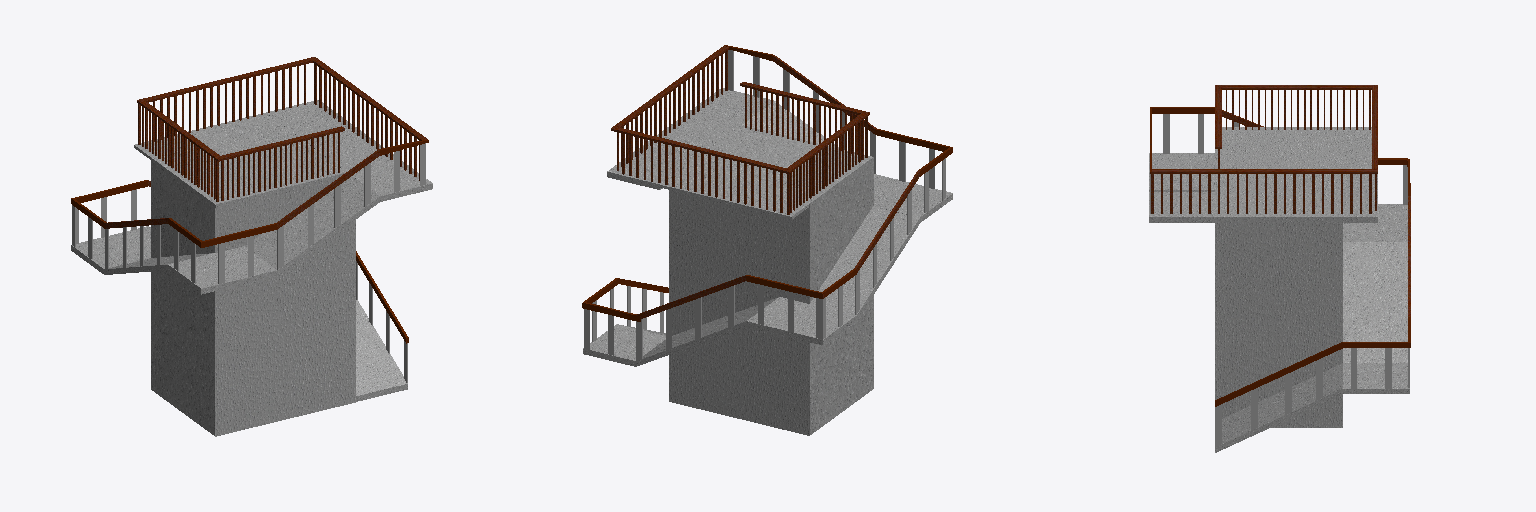
3 renders of one model, left to right at view 1: azimuth 30°, elevation 25°; view 2: azimuth 150°, elevation 25°; view 3: azimuth 270°, elevation 25°, orthographic.
Visible parts, largest first — view 1: Cube.121_Cube.090; view 2: Cube.121_Cube.090; view 3: Cube.121_Cube.090.
Part boxes in pixels (x1,y1,x2,y2): Cube.121_Cube.090: (71, 57, 432, 436); Cube.121_Cube.090: (582, 45, 952, 435); Cube.121_Cube.090: (1149, 85, 1410, 452).
Size of the model in its own units: 16.14 by 17.86 by 15.21.
Materials: 6 (2 with a texture image).